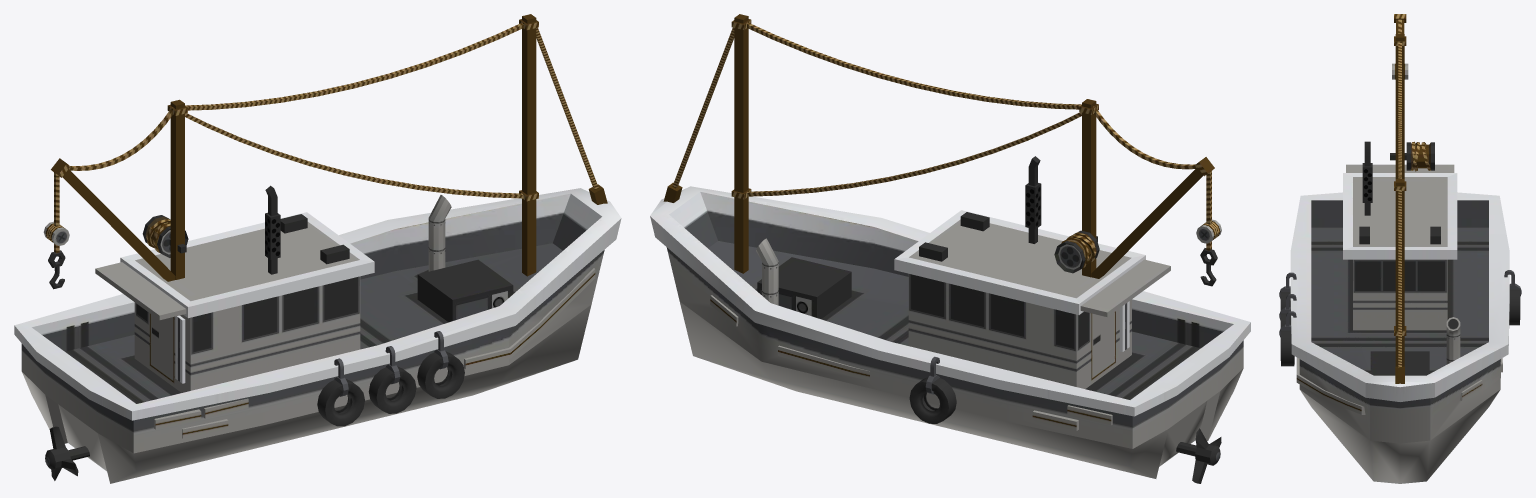
File: Boat-transformed.glb
3 views of the same model, side by side, from view 1: azimuth 30°, elevation 25°; view 2: azimuth 150°, elevation 25°; view 3: azimuth 270°, elevation 25° (orthographic). The views are drawn at different scales.
Visible parts, largest first — view 1: Boat; view 2: Boat; view 3: Boat.
Boxes of the visible parts, x1,y1,x2,y2 form: Boat: [14, 14, 621, 483]; Boat: [650, 14, 1250, 483]; Boat: [1279, 14, 1521, 483].
Bounding box in the file's own units: 929 × 558 × 410.
Materials: 1 (1 with a texture image).
